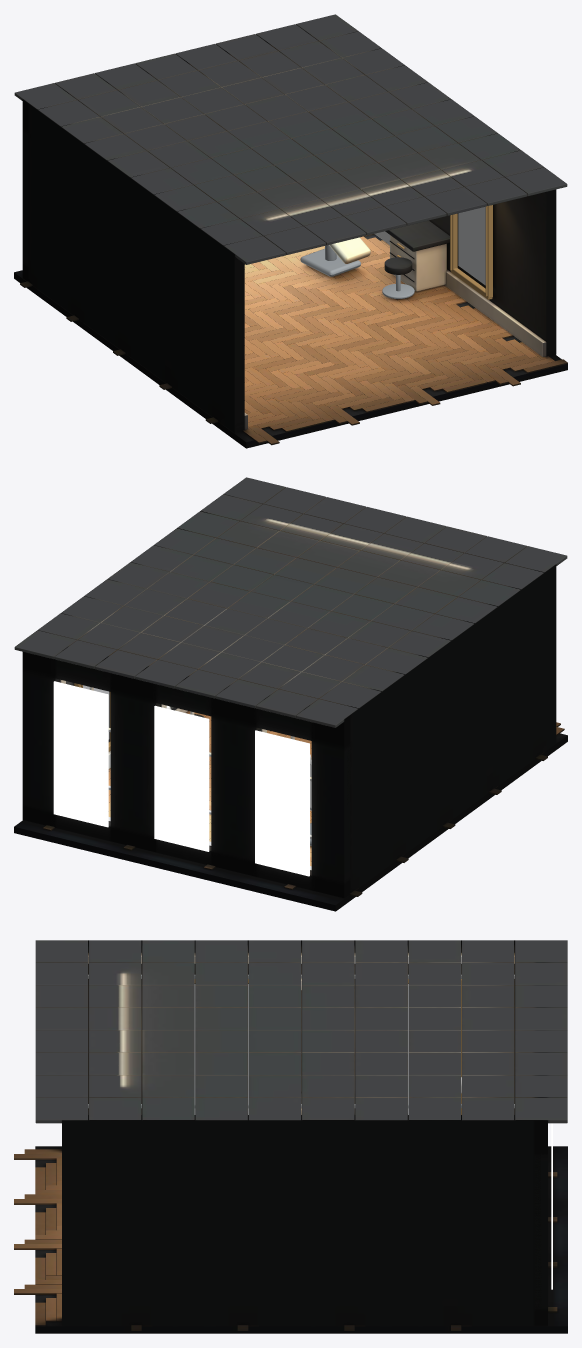
The model's file is scene-baked.glb.
The picture shows the model from 3 angles, top to bottom: view 1: azimuth 30°, elevation 25°; view 2: azimuth 150°, elevation 25°; view 3: azimuth 270°, elevation 25°; orthographic projection. The views are drawn at different scales.
Visible parts, largest first — view 1: Heritage baked room; view 2: Heritage baked room; view 3: Heritage baked room.
Boxes of the visible parts, left/top/right/bottom form: Heritage baked room: left=14, top=14, right=567, bottom=448; Heritage baked room: left=14, top=477, right=567, bottom=911; Heritage baked room: left=14, top=940, right=567, bottom=1333.
Bounding box in the file's own units: 6.72 × 3.54 × 8.32.
17 materials, 13 textured.
